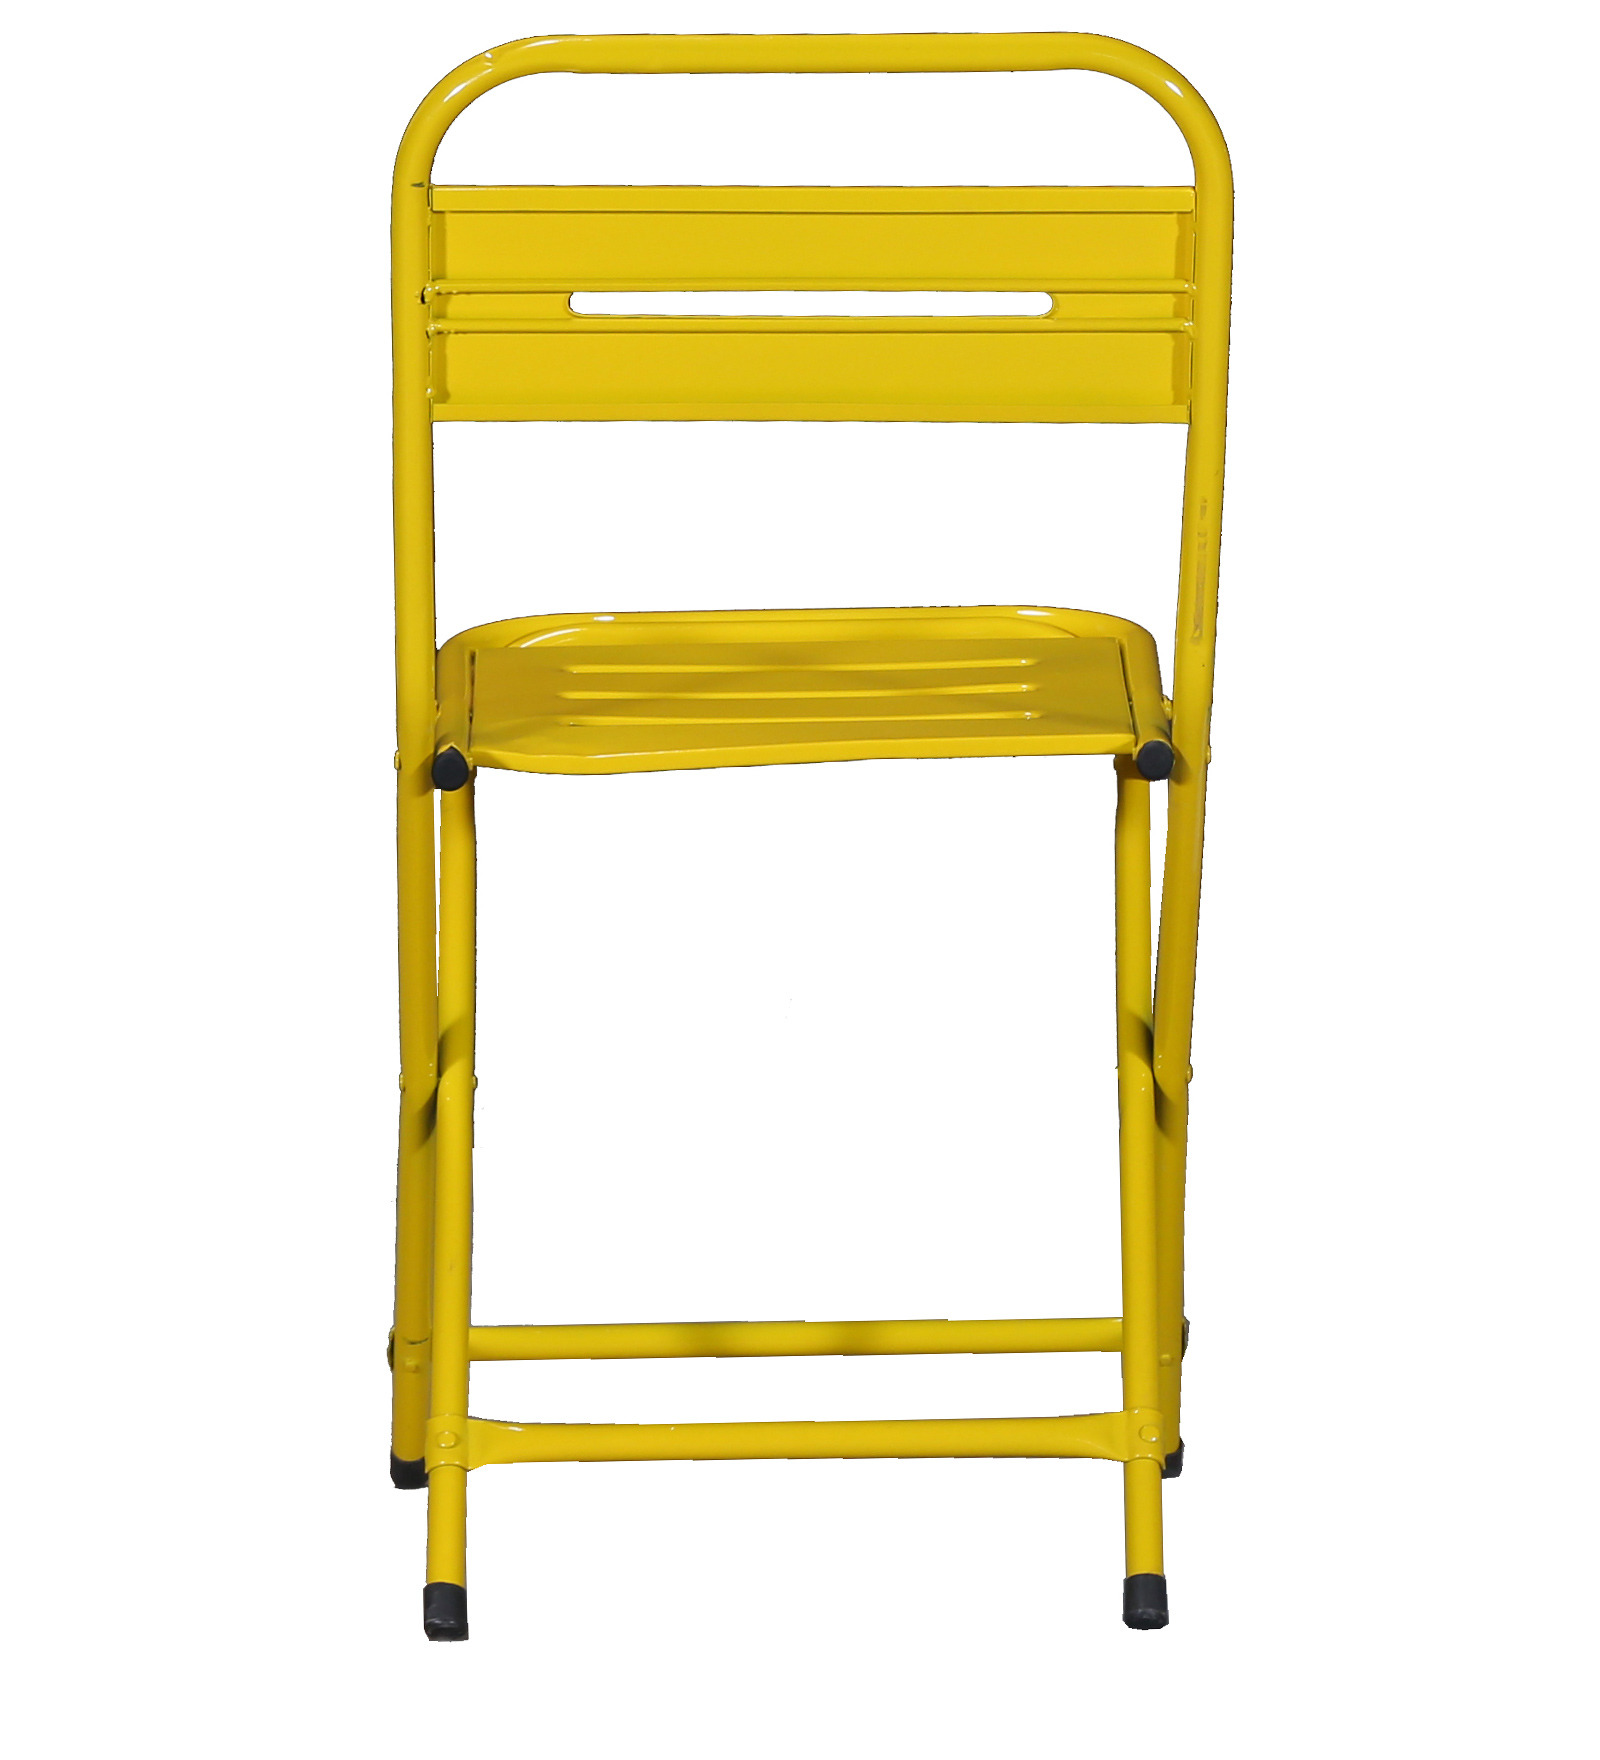Marandoo Grunge Outdoor Folding Chair in Yellow Colour by Bohemiana: (383, 17, 1237, 1645)
